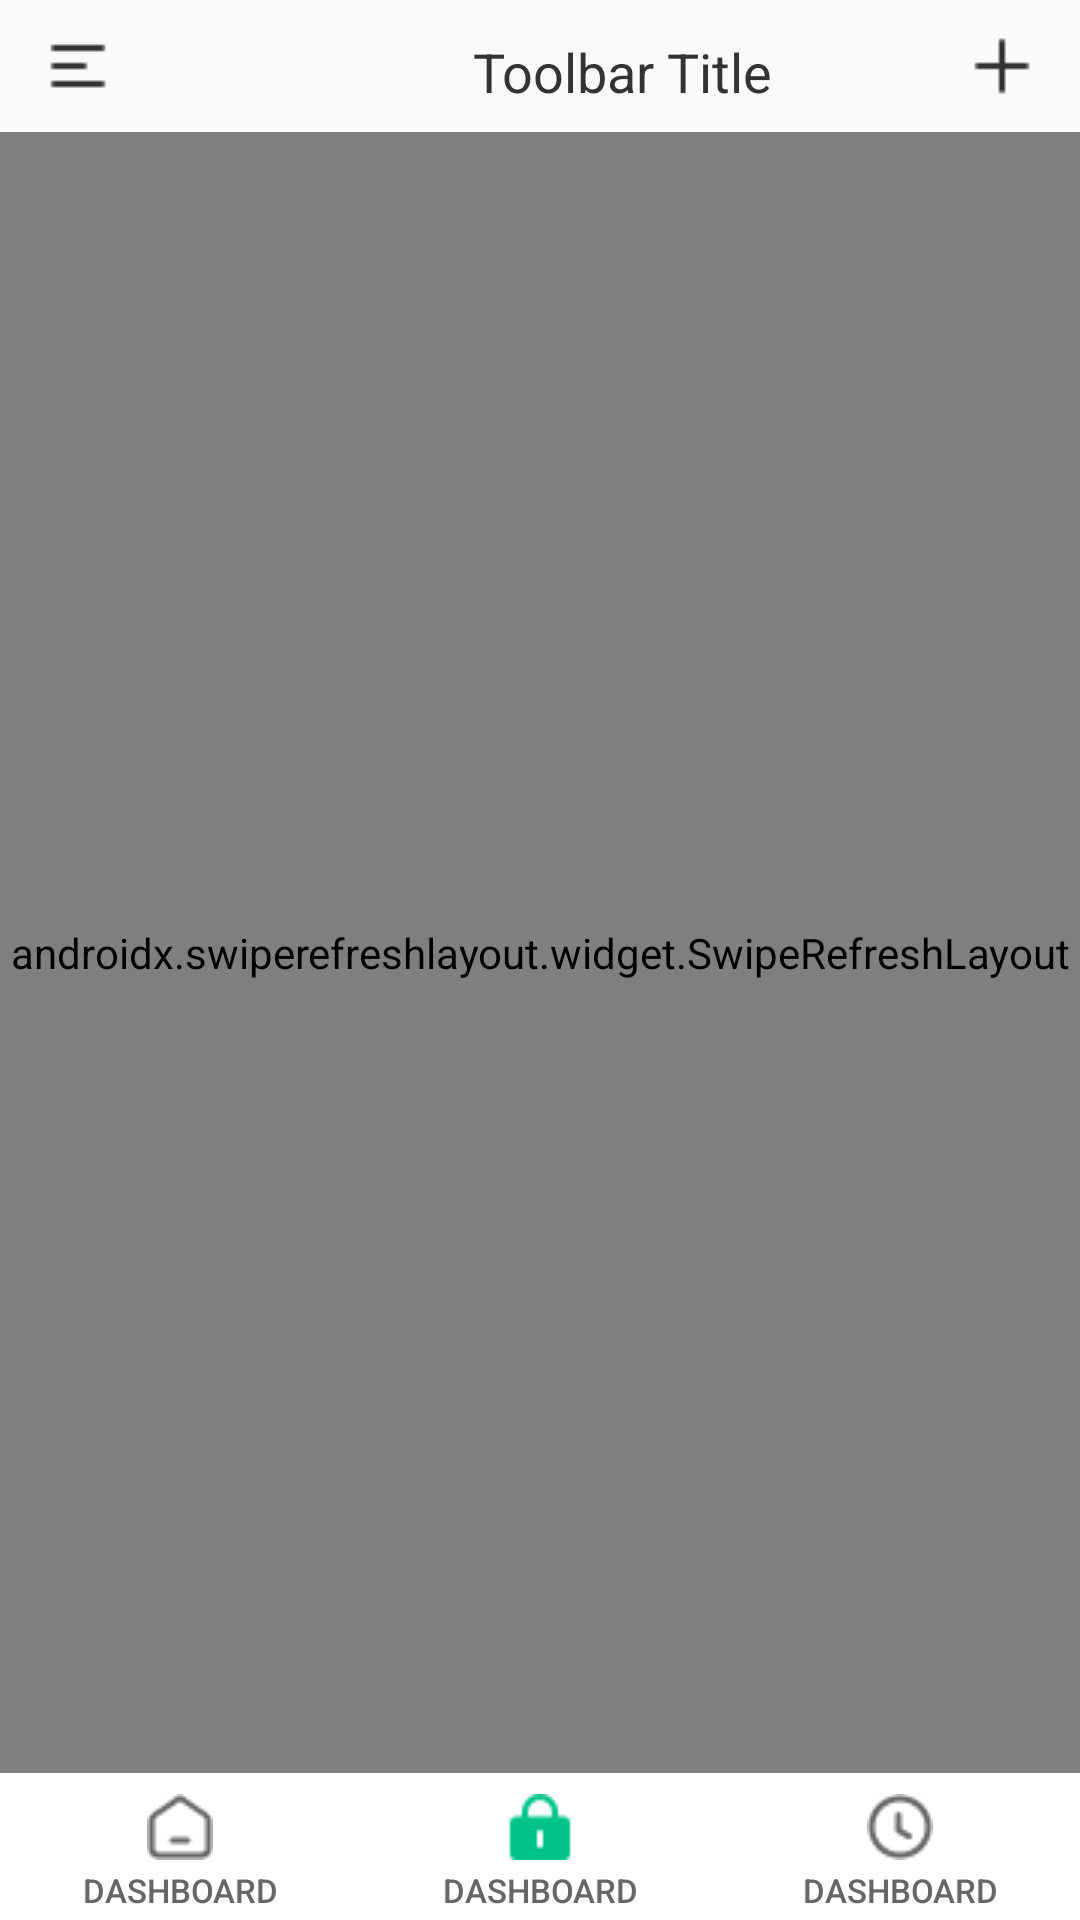

Screen size 1080 × 1920. Icon name, then its box in pixels as (x1, y1, x2, y2):
add: (974, 38, 1030, 94)
menu: (50, 44, 106, 88)
